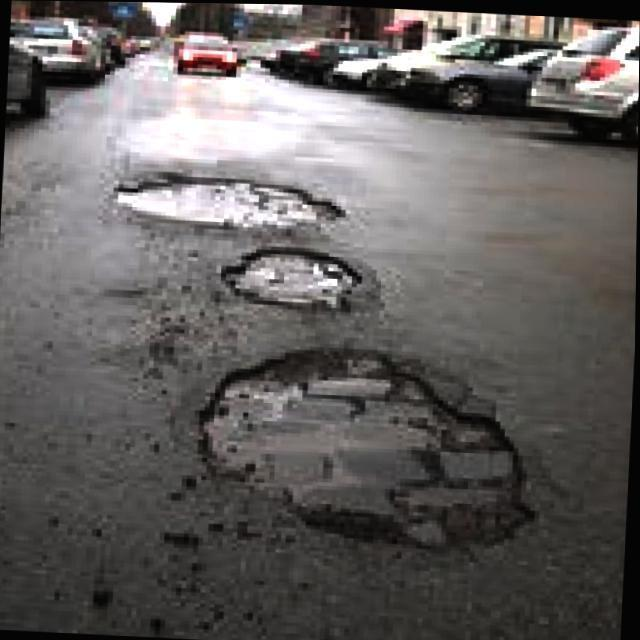Pothole: (199, 348, 531, 547), (113, 175, 339, 227), (222, 246, 360, 309)
